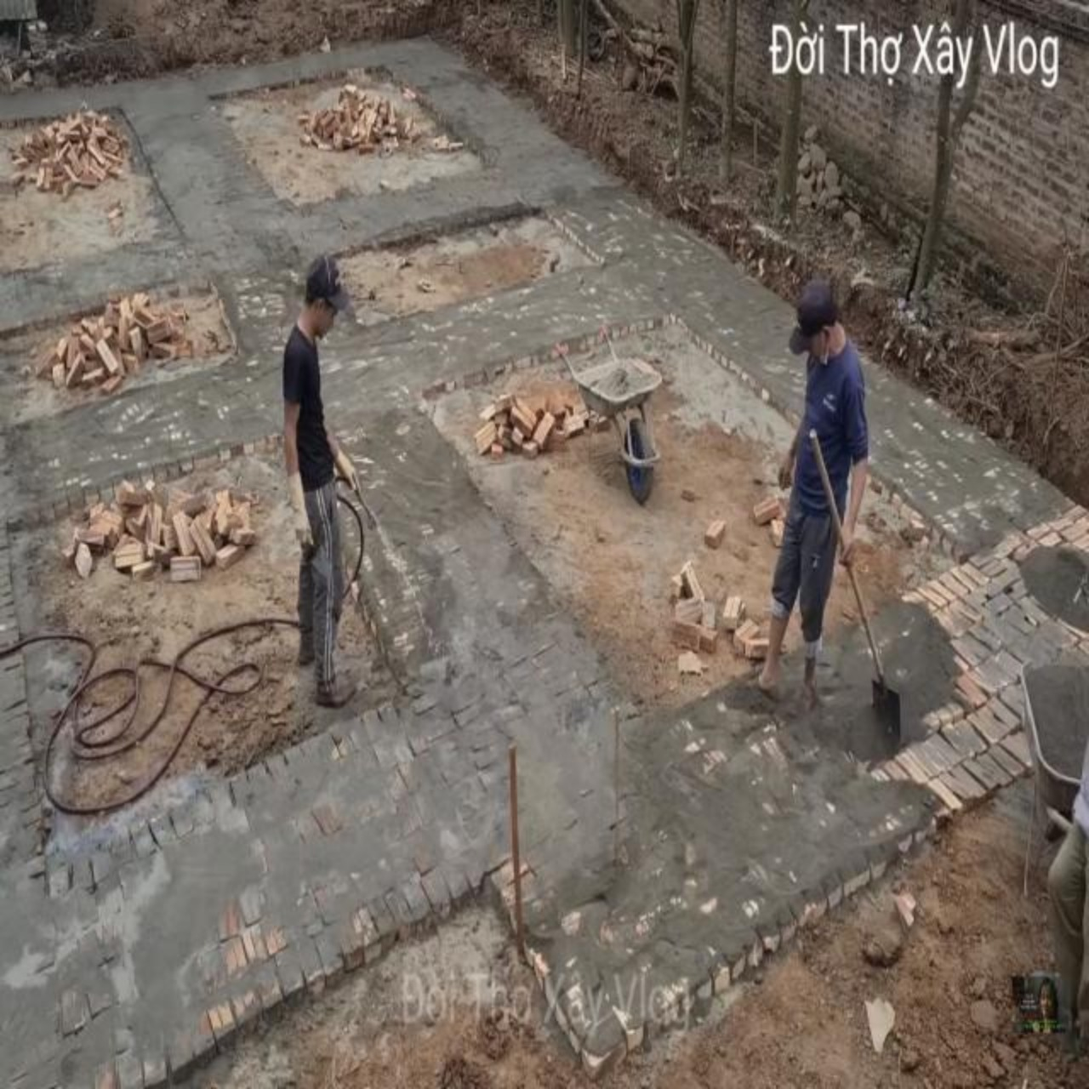no_helmet: (786, 274, 841, 373), (299, 254, 351, 348)
no_vest: (793, 339, 871, 522), (277, 325, 335, 499)
person: (755, 265, 871, 721), (282, 248, 365, 712)
